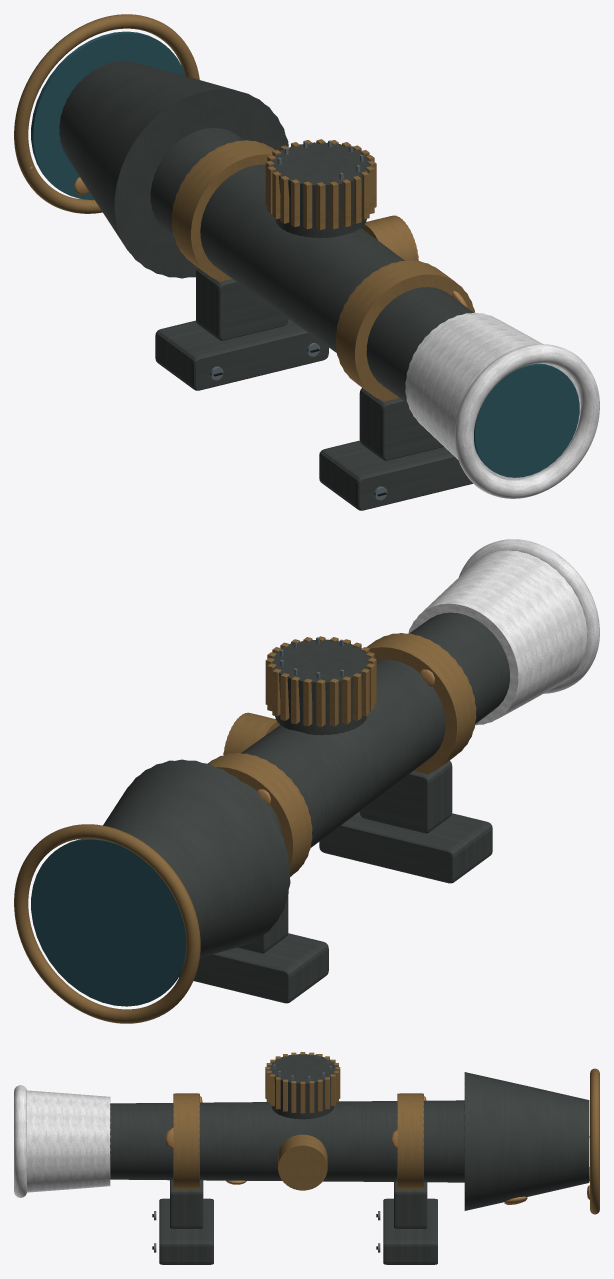
3 views of the same model, one above another, from view 1: azimuth 30°, elevation 25°; view 2: azimuth 150°, elevation 25°; view 3: azimuth 270°, elevation 25° (orthographic). The views are drawn at different scales.
Parts seen in each view (by area): view 1: machined receiver, edge hardware, vulcanized grip, coated optic, brushed steel; view 2: machined receiver, edge hardware, coated optic, vulcanized grip; view 3: machined receiver, edge hardware, vulcanized grip, peened pin.
Part boxes in pixels (x1=…): machined receiver: x1=59, y1=61, x2=473, y2=510; edge hardware: x1=14, y1=14, x2=474, y2=401; vulcanized grip: x1=405, y1=312, x2=599, y2=498; coated optic: x1=31, y1=31, x2=579, y2=477; brushed steel: x1=210, y1=140, x2=387, y2=500; machined receiver: x1=103, y1=612, x2=509, y2=1003; edge hardware: x1=14, y1=633, x2=476, y2=1023; coated optic: x1=31, y1=838, x2=186, y2=1006; vulcanized grip: x1=408, y1=539, x2=599, y2=725; machined receiver: x1=110, y1=1054, x2=589, y2=1264; edge hardware: x1=173, y1=1052, x2=599, y2=1214; vulcanized grip: x1=14, y1=1085, x2=110, y2=1197; peened pin: x1=165, y1=1128, x2=527, y2=1204.
Bounding box in the file's own units: 0.088 × 0.1188 × 0.353.
Materials: 7 (4 with a texture image).
